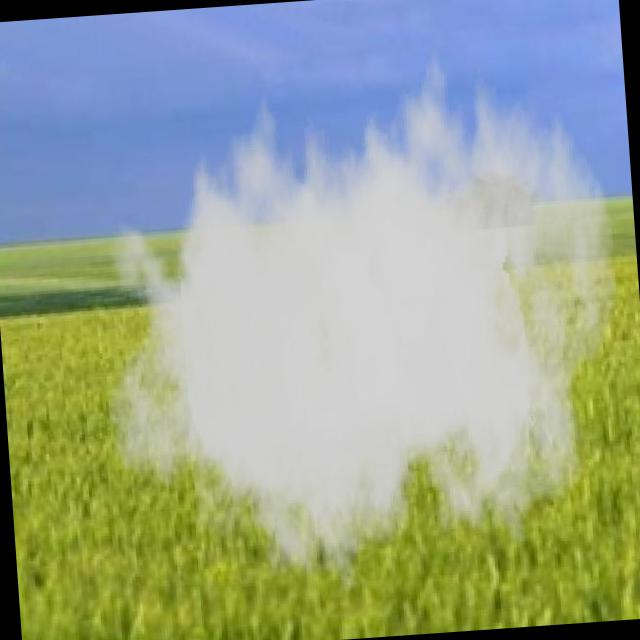Smoke: (81, 14, 639, 618)
